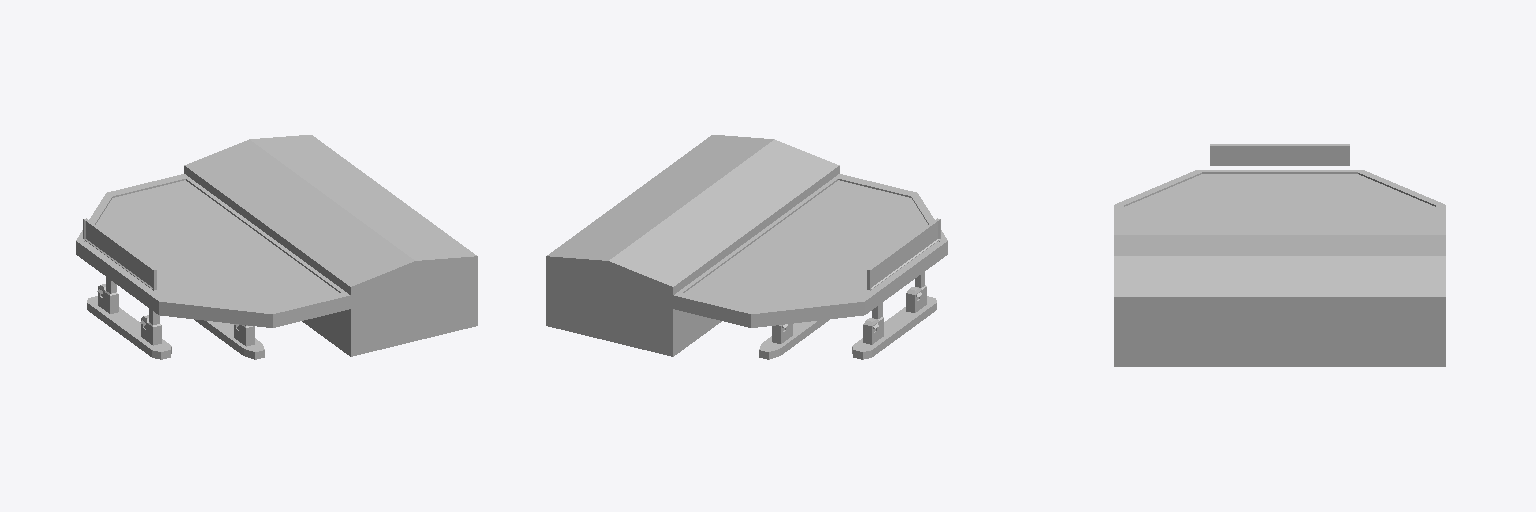
File: PoiGas.obj
3 renders of one model, left to right at view 1: azimuth 30°, elevation 25°; view 2: azimuth 150°, elevation 25°; view 3: azimuth 270°, elevation 25°, orthographic.
Parts seen in each view (by area): view 1: GasStation PROPS; view 2: GasStation PROPS; view 3: GasStation PROPS.
Part boxes in pixels (x1,y1,x2,y2): GasStation PROPS: (76,135,477,359); GasStation PROPS: (546,135,947,359); GasStation PROPS: (1114,144,1445,366).
Bounding box in the file's own units: 14.35 × 4.43 × 14.91.